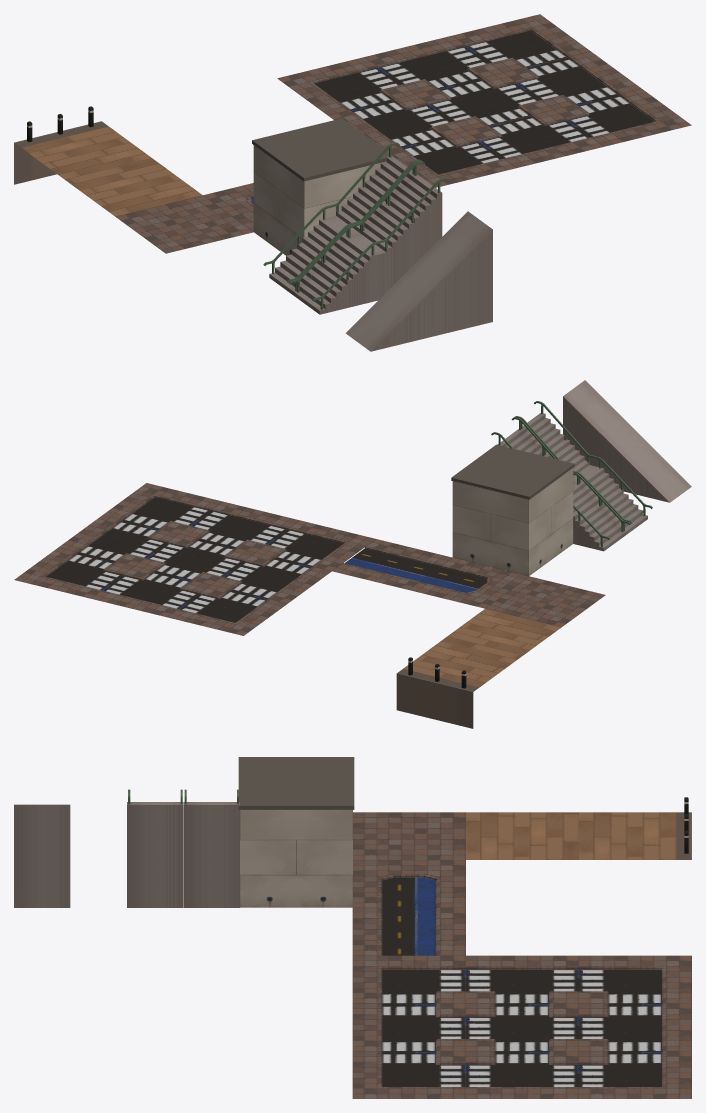
The model's file is ruas.fbx.
3 renders of one model, top to bottom at view 1: azimuth 30°, elevation 25°; view 2: azimuth 150°, elevation 25°; view 3: azimuth 270°, elevation 25°, orthographic. The views are drawn at different scales.
Parts seen in each view (by area): view 1: Parede, Rampa, Escadaria.001, Escadaria, Rua_CalcadaOrlaBorda, RuaT_Direita, RuaT_Baixo, Rua_DireitaBaixo, RuaL_EsquerdaBaixo, Rua_Calcada, Rua_CalcadaOrla, RuaCruzamento (+5 smaller); view 2: Parede, Rampa, Rua_CalcadaOrlaBorda, Escadaria.001, RuaL_DireitaCima, RuaT_Cima, RuaT_Direita, RuaL_EsquerdaCima, RuaCruzamento, Rua_Calcada, Rua_CalcadaOrla, Rua (+6 smaller); view 3: Parede, Escadaria.001, Escadaria, Rampa, RuaL_EsquerdaCima, RuaL_EsquerdaBaixo, RuaT_Esquerda, RuaT_Cima, Rua_CalcadaOrlaBorda, RuaCruzamento, RuaT_Baixo, Rua_Fim (+6 smaller).
Boxes of the visible parts, x1=… form: Parede: x1=252, y1=118, x2=393, y2=255; Rampa: x1=345, y1=211, x2=492, y2=351; Escadaria.001: x1=288, y1=161, x2=448, y2=314; Escadaria: x1=263, y1=142, x2=421, y2=295; Rua_CalcadaOrlaBorda: x1=14, y1=106, x2=151, y2=184; RuaT_Direita: x1=503, y1=51, x2=640, y2=109; RuaT_Baixo: x1=365, y1=35, x2=502, y2=93; Rua_DireitaBaixo: x1=453, y1=14, x2=590, y2=72; RuaL_EsquerdaBaixo: x1=277, y1=57, x2=414, y2=115; Rua_Calcada: x1=115, y1=195, x2=252, y2=253; Rua_CalcadaOrla: x1=65, y1=158, x2=202, y2=216; RuaCruzamento: x1=416, y1=72, x2=553, y2=130; Parede: x1=451, y1=444, x2=574, y2=575; Rampa: x1=563, y1=380, x2=691, y2=502; Rua_CalcadaOrlaBorda: x1=396, y1=641, x2=516, y2=728; Escadaria.001: x1=514, y1=401, x2=652, y2=534; RuaL_DireitaCima: x1=103, y1=483, x2=222, y2=533; RuaT_Cima: x1=179, y1=501, x2=299, y2=552; RuaT_Direita: x1=58, y1=515, x2=178, y2=566; RuaL_EsquerdaCima: x1=256, y1=520, x2=375, y2=571; RuaCruzamento: x1=135, y1=534, x2=254, y2=584; Rua_Calcada: x1=485, y1=576, x2=605, y2=627; Rua_CalcadaOrla: x1=441, y1=608, x2=561, y2=659; Rua: x1=332, y1=539, x2=452, y2=589; Parede: x1=238, y1=757, x2=354, y2=907; Escadaria.001: x1=127, y1=789, x2=183, y2=907; Escadaria: x1=183, y1=789, x2=239, y2=907; Rampa: x1=14, y1=804, x2=70, y2=907; RuaL_EsquerdaCima: x1=352, y1=955, x2=465, y2=1004; RuaL_EsquerdaBaixo: x1=579, y1=955, x2=691, y2=1004; RuaT_Esquerda: x1=466, y1=955, x2=578, y2=1004; RuaT_Cima: x1=352, y1=1003, x2=465, y2=1052; Rua_CalcadaOrlaBorda: x1=579, y1=797, x2=691, y2=859; RuaCruzamento: x1=466, y1=1003, x2=578, y2=1052; RuaT_Baixo: x1=579, y1=1003, x2=691, y2=1052; Rua_Fim: x1=353, y1=860, x2=465, y2=908.
Bounding box in the file's own units: 600 × 161 × 600.
